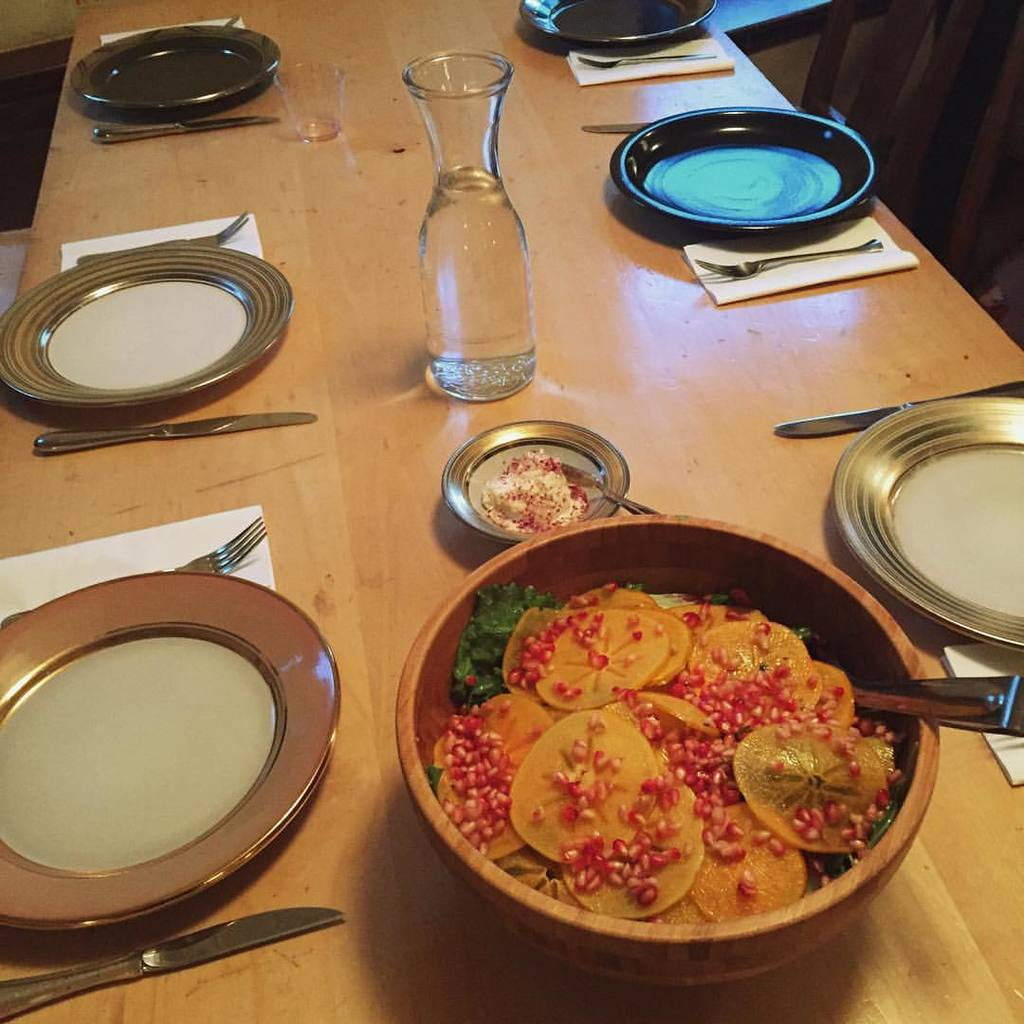plate: (611, 108, 879, 239), (66, 25, 283, 115)
